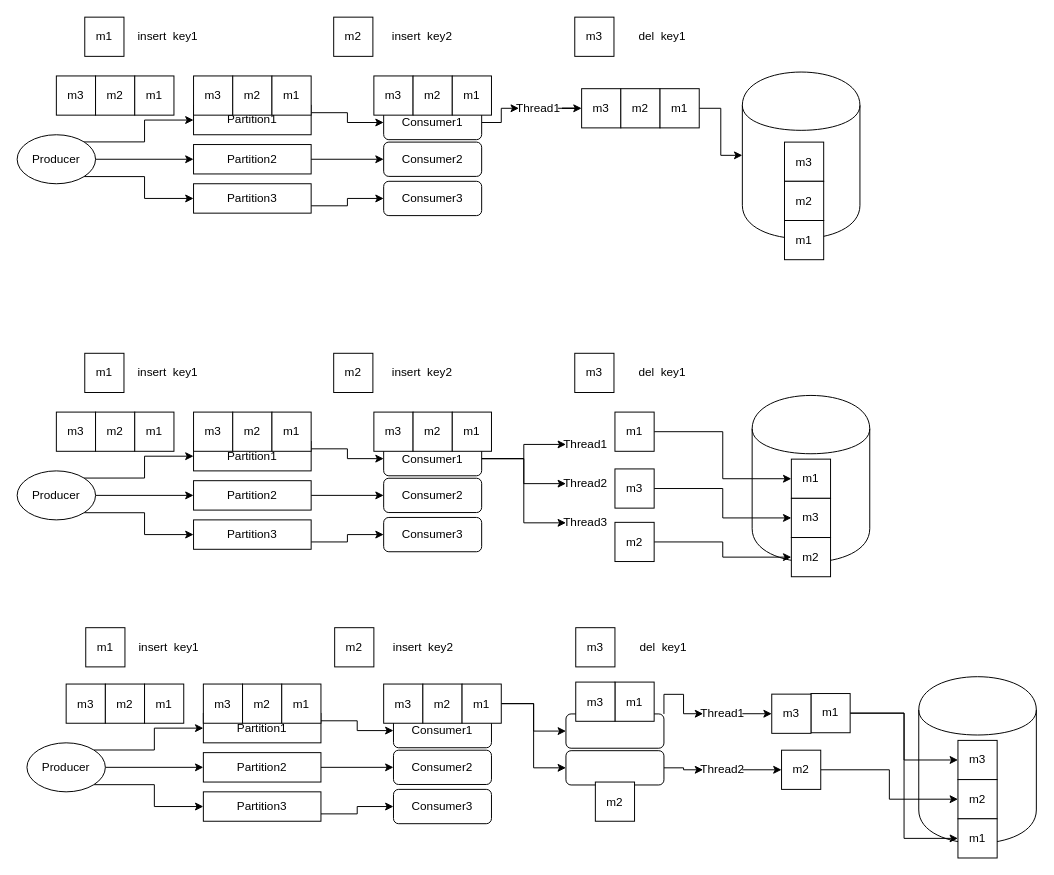
Some shapes in this 1054 by 875 pixel diagram are drawn without their labels. Here are the shapes that lost their labels. From the top down, the centre of each, then its label:
At point (614, 730): "内存队列1".
At point (614, 767): "内存队列2".
